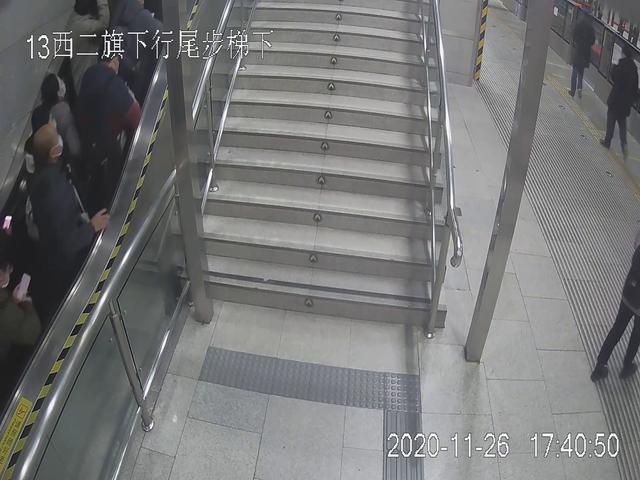person: (24, 122, 111, 307), (599, 40, 640, 157), (568, 8, 599, 101)
